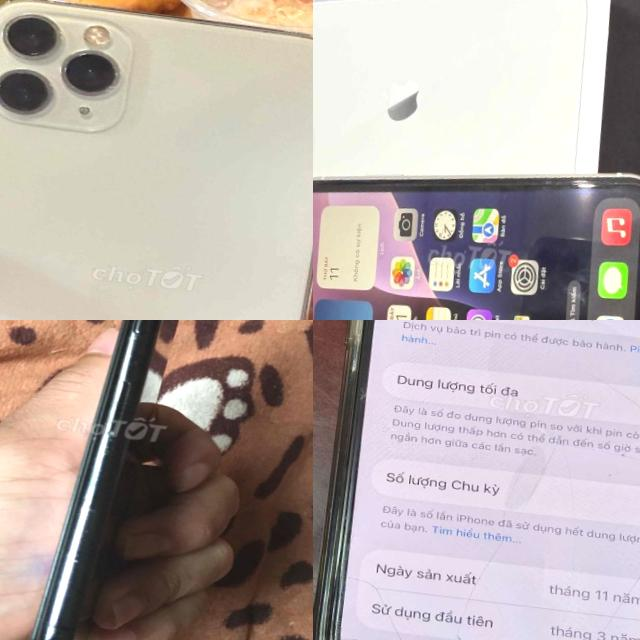gen_11: (0, 0, 313, 320), (313, 129, 640, 320)
gen_15: (313, 320, 640, 640)
gen_x_xs: (30, 320, 163, 640)
